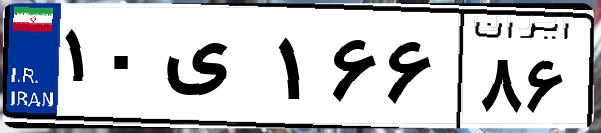0: (110, 28, 158, 98)
1: (270, 28, 330, 110), (57, 26, 110, 100)
6: (385, 28, 445, 110), (330, 28, 385, 110), (525, 38, 570, 115)
8: (475, 38, 525, 113)
ی: (158, 20, 270, 120)
